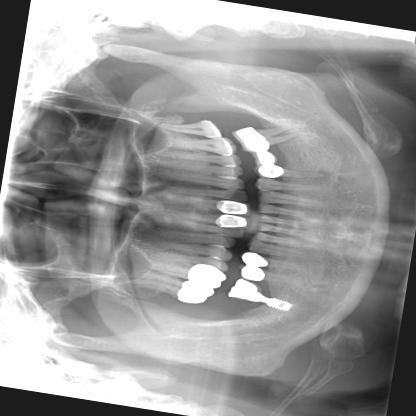Bicon: (265, 295, 297, 312)
